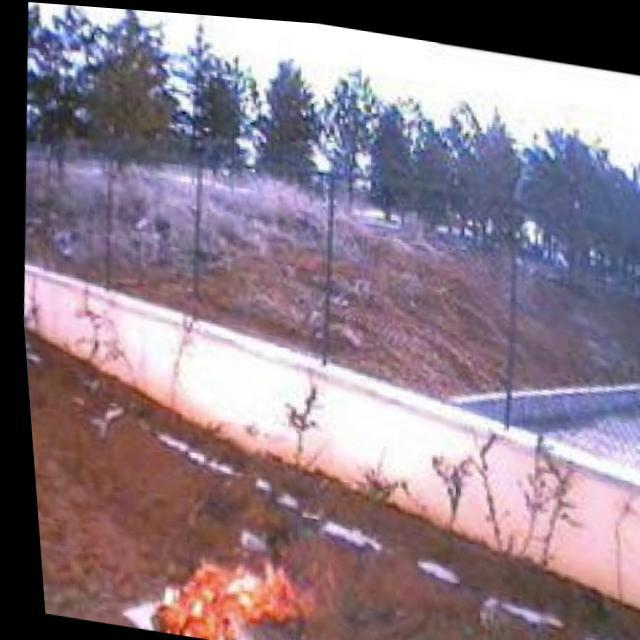fire: (126, 532, 327, 640)
